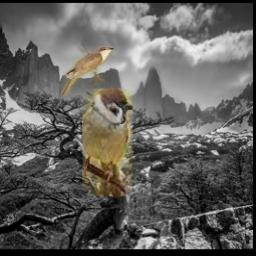Cuckoo: (62, 46, 115, 96)
Sparrow: (82, 89, 133, 196)
